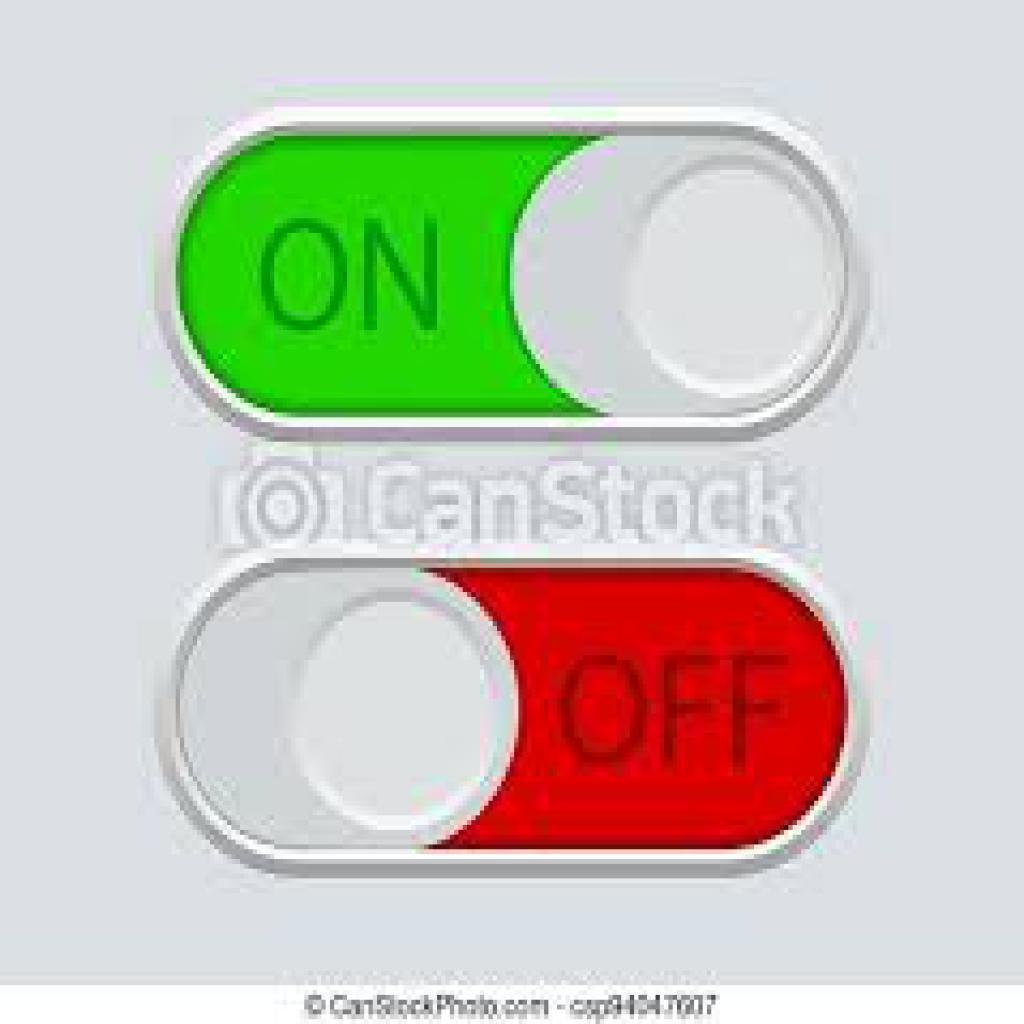switch: (153, 546, 874, 888), (169, 105, 874, 443)
